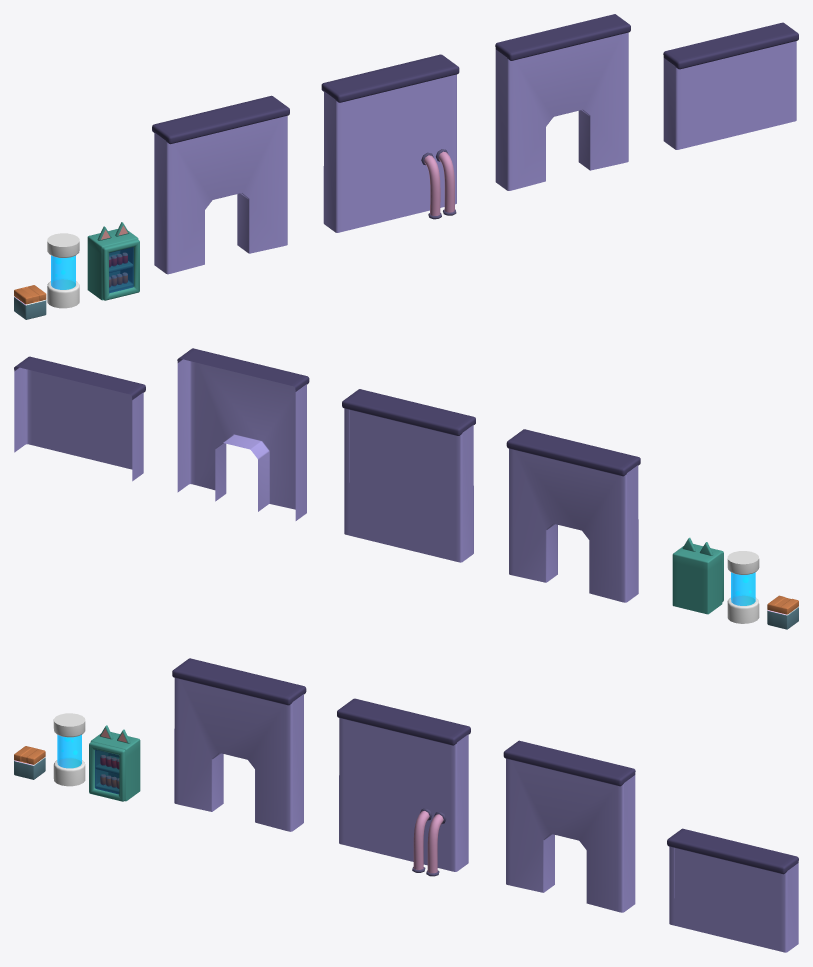
The model's file is assets.gltf.
3 renders of one model, top to bottom at view 1: azimuth 30°, elevation 25°; view 2: azimuth 150°, elevation 25°; view 3: azimuth 330°, elevation 25°, orthographic. The views are drawn at different scales.
Visible parts, largest first — view 1: parede.005, parede, parede.002, parede.003, frigobar, tubo-grande, caixa, cano02, cano01; view 2: parede.005, parede, parede.002, parede.003, frigobar, tubo-grande, caixa; view 3: parede.005, parede, parede.002, parede.003, frigobar, tubo-grande, caixa, cano01, cano02.
Boxes of the visible parts, x1,y1,x2,y2 form: parede.005: [321, 54, 459, 232]; parede: [152, 95, 289, 274]; parede.002: [495, 14, 630, 190]; parede.003: [663, 22, 798, 149]; frigobar: [87, 222, 139, 300]; tubo-grande: [47, 233, 79, 308]; caixa: [14, 285, 46, 319]; cano02: [421, 152, 441, 219]; cano01: [436, 149, 456, 215]; parede.005: [342, 389, 475, 562]; parede: [506, 429, 640, 602]; parede.002: [177, 348, 309, 520]; parede.003: [14, 356, 145, 481]; frigobar: [672, 537, 723, 614]; tubo-grande: [727, 551, 759, 623]; caixa: [767, 595, 798, 629]; parede.005: [337, 698, 470, 871]; parede: [172, 658, 306, 831]; parede.002: [503, 740, 635, 912]; parede.003: [667, 828, 798, 952]; frigobar: [89, 725, 140, 801]; tubo-grande: [53, 713, 85, 786]; caixa: [14, 746, 45, 779]; cano01: [426, 811, 446, 876]; cano02: [412, 808, 432, 872].
Size of the model in its own units: 39.44 by 6.68 by 2.48.
